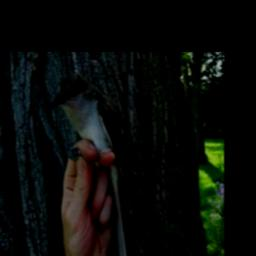Cuckoo: (46, 71, 141, 256)
